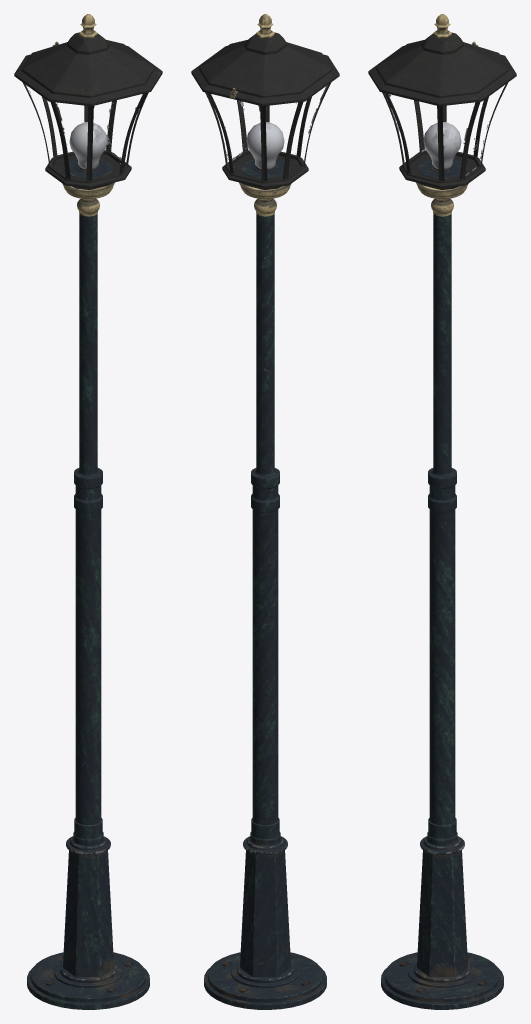
Rendered from Street_Lamp_7.obj.
The picture shows the model from 3 angles, left to right: view 1: azimuth 30°, elevation 25°; view 2: azimuth 150°, elevation 25°; view 3: azimuth 330°, elevation 25°; orthographic projection.
Visible parts, largest first — view 1: StrLmp7_Post_Cylinder.092, StrLmp7_Lamp_1.4_Cube.040, StrLmp7_Lamp_1.2_Cube.039, StrLmp7_Lamp_1.1_Cube.038, StrLmp7_Lamp_Bulb_Сфера.004, StrLmp7_Stand_Cylinder.048, StrLmp7_Lamp_socket_Cube.053; view 2: StrLmp7_Post_Cylinder.092, StrLmp7_Lamp_1.4_Cube.040, StrLmp7_Lamp_1.2_Cube.039, StrLmp7_Lamp_1.1_Cube.038, StrLmp7_Lamp_Bulb_Сфера.004, StrLmp7_Stand_Cylinder.048, StrLmp7_Lamp_socket_Cube.053; view 3: StrLmp7_Post_Cylinder.092, StrLmp7_Lamp_1.4_Cube.040, StrLmp7_Lamp_1.2_Cube.039, StrLmp7_Lamp_1.1_Cube.038, StrLmp7_Lamp_Bulb_Сфера.004, StrLmp7_Stand_Cylinder.048, StrLmp7_Lamp_socket_Cube.053.
Part boxes in pixels (x1,y1,x2,y2): StrLmp7_Post_Cylinder.092: (27,214,149,1009); StrLmp7_Lamp_1.4_Cube.040: (14,14,162,106); StrLmp7_Lamp_1.2_Cube.039: (22,82,148,181); StrLmp7_Lamp_1.1_Cube.038: (45,150,131,189); StrLmp7_Lamp_Bulb_Сфера.004: (69,122,107,169); StrLmp7_Stand_Cylinder.048: (62,182,114,216); StrLmp7_Lamp_socket_Cube.053: (63,159,113,178); StrLmp7_Post_Cylinder.092: (204,214,326,1009); StrLmp7_Lamp_1.4_Cube.040: (191,14,339,106); StrLmp7_Lamp_1.2_Cube.039: (205,82,331,181); StrLmp7_Lamp_1.1_Cube.038: (222,150,308,189); StrLmp7_Lamp_Bulb_Сфера.004: (246,122,284,169); StrLmp7_Stand_Cylinder.048: (239,182,291,216); StrLmp7_Lamp_socket_Cube.053: (240,159,290,178); StrLmp7_Post_Cylinder.092: (381,214,503,1009); StrLmp7_Lamp_1.4_Cube.040: (368,14,516,106); StrLmp7_Lamp_1.2_Cube.039: (382,82,508,181); StrLmp7_Lamp_1.1_Cube.038: (399,150,485,189); StrLmp7_Lamp_Bulb_Сфера.004: (423,122,461,169); StrLmp7_Stand_Cylinder.048: (416,182,468,216); StrLmp7_Lamp_socket_Cube.053: (417,159,467,178).
Bounding box in the file's own units: 0.286 × 2.32 × 0.2879.
Materials: 1 (1 with a texture image).
